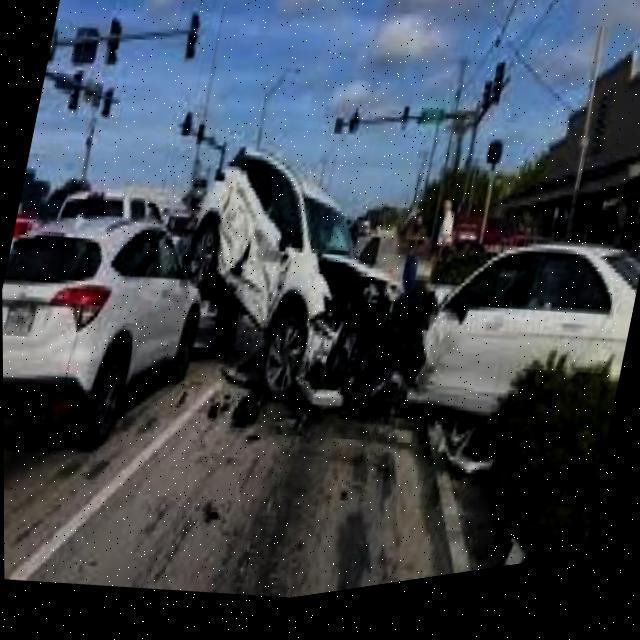Car Accident Detector - v4 Generation1 Exported: (161, 99, 640, 510)
